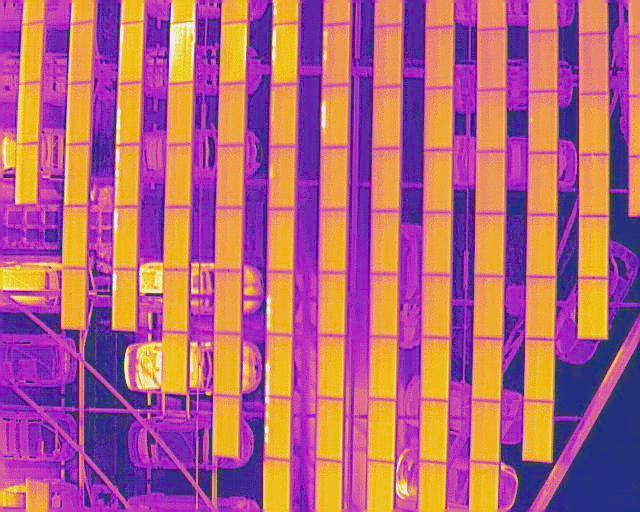Cell: (268, 147, 297, 210)
Cell-Multi: (264, 398, 292, 460)
No-Anomaly: (523, 340, 555, 402), (474, 276, 505, 340), (475, 214, 506, 277), (372, 24, 403, 87), (528, 29, 558, 94), (318, 146, 348, 210), (526, 276, 556, 339), (579, 93, 609, 156), (527, 90, 557, 153), (527, 151, 557, 214), (422, 273, 451, 338), (214, 270, 243, 335), (474, 336, 503, 401), (478, 29, 507, 94), (372, 84, 401, 149), (580, 154, 609, 219), (477, 150, 506, 215), (422, 212, 451, 276), (370, 274, 399, 338), (422, 337, 451, 401), (579, 217, 609, 278), (523, 401, 553, 462), (472, 402, 502, 463), (162, 208, 191, 271), (216, 207, 245, 270), (579, 277, 608, 340), (420, 400, 449, 463), (369, 337, 398, 400), (220, 21, 248, 86), (319, 209, 347, 274), (528, 214, 556, 278), (371, 211, 399, 275), (426, 27, 454, 91), (371, 147, 399, 211), (267, 209, 295, 272), (268, 84, 296, 147), (216, 145, 244, 208), (479, 87, 506, 152), (317, 335, 344, 399), (68, 19, 95, 83), (425, 86, 452, 150), (580, 32, 608, 93), (214, 334, 241, 397), (162, 333, 189, 396), (369, 399, 396, 462), (162, 267, 188, 332), (425, 148, 451, 213), (319, 272, 346, 334), (317, 397, 343, 461), (220, 80, 245, 146), (166, 144, 192, 207), (167, 83, 193, 145), (19, 21, 44, 85), (65, 143, 90, 207), (62, 267, 87, 330), (68, 81, 92, 146), (62, 206, 87, 268), (215, 396, 240, 458), (16, 82, 41, 144), (15, 141, 38, 204)
Unclassified: (266, 271, 294, 336), (322, 24, 351, 85), (271, 24, 298, 87), (322, 85, 349, 148), (266, 336, 292, 398), (114, 206, 139, 270), (170, 21, 195, 84), (119, 22, 144, 85), (117, 82, 142, 145), (115, 144, 140, 206), (112, 269, 136, 330)
